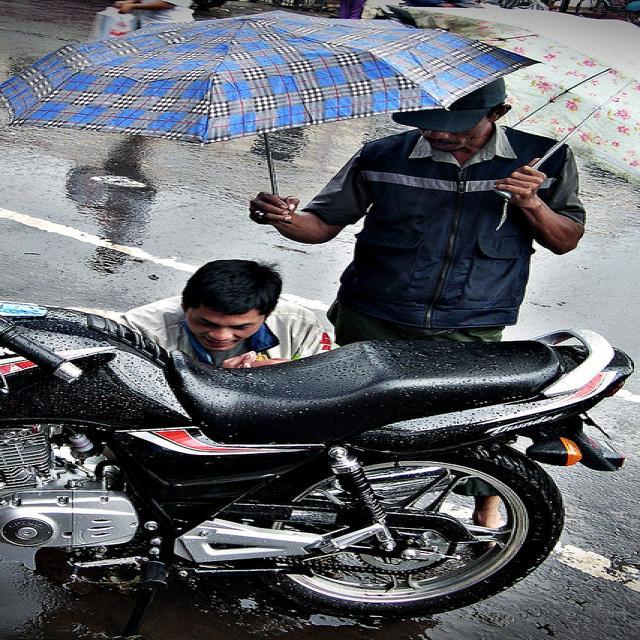motor: (2, 299, 638, 631)
